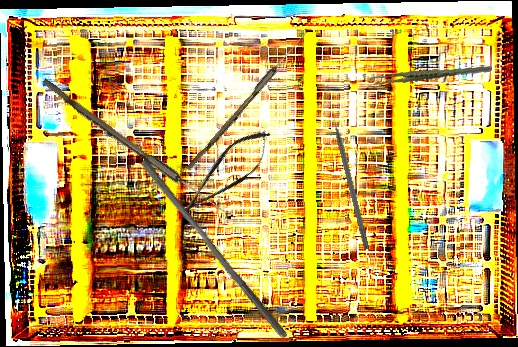Hook Surgical: (329, 109, 372, 250)
Micro Scissor: (167, 119, 283, 230)
Pusher: (132, 156, 297, 341)
Surgical Spoon: (39, 78, 230, 217), (186, 29, 309, 173)
Tissue Forceps: (371, 54, 493, 96)
